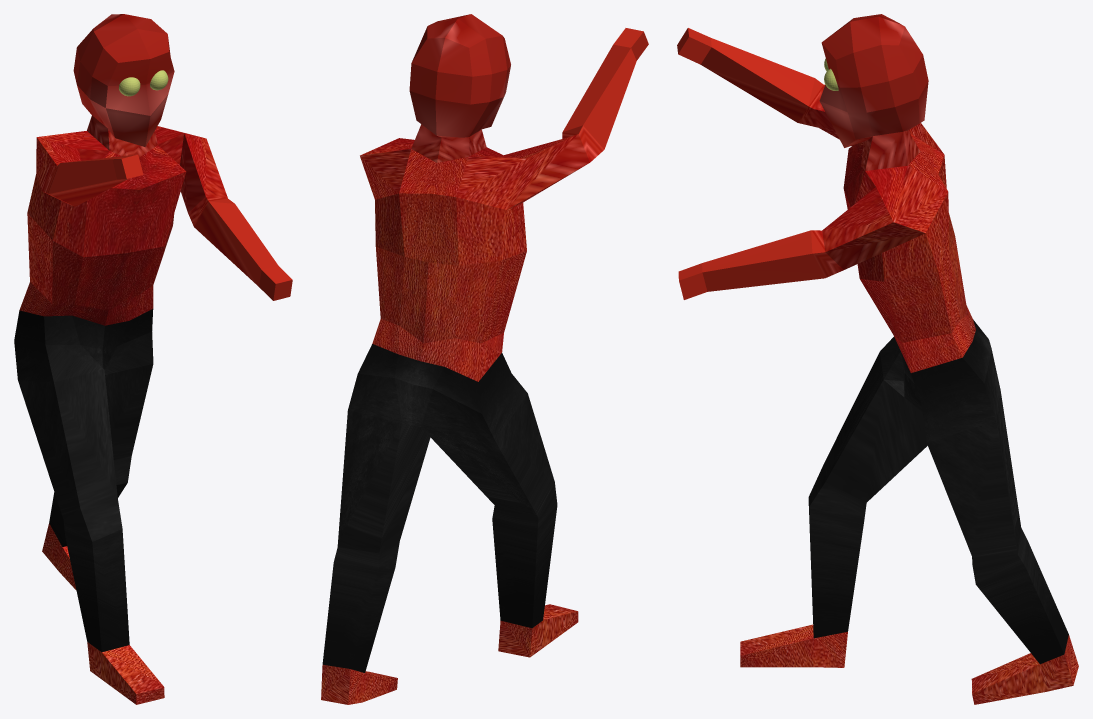
File: laySheary_000001.obj
The picture shows the model from 3 angles, left to right: view 1: azimuth 30°, elevation 25°; view 2: azimuth 150°, elevation 25°; view 3: azimuth 270°, elevation 25°; orthographic projection. The views are drawn at different scales.
Visible parts, largest first — view 1: Cube; view 2: Cube; view 3: Cube.
Part boxes in pixels (left/top/right/bottom): Cube: left=14, top=14, right=292, bottom=704; Cube: left=321, top=14, right=648, bottom=704; Cube: left=677, top=14, right=1078, bottom=704.
Bounding box in the file's own units: 5.25 × 15.91 × 8.69.
Materials: 3 (2 with a texture image).
